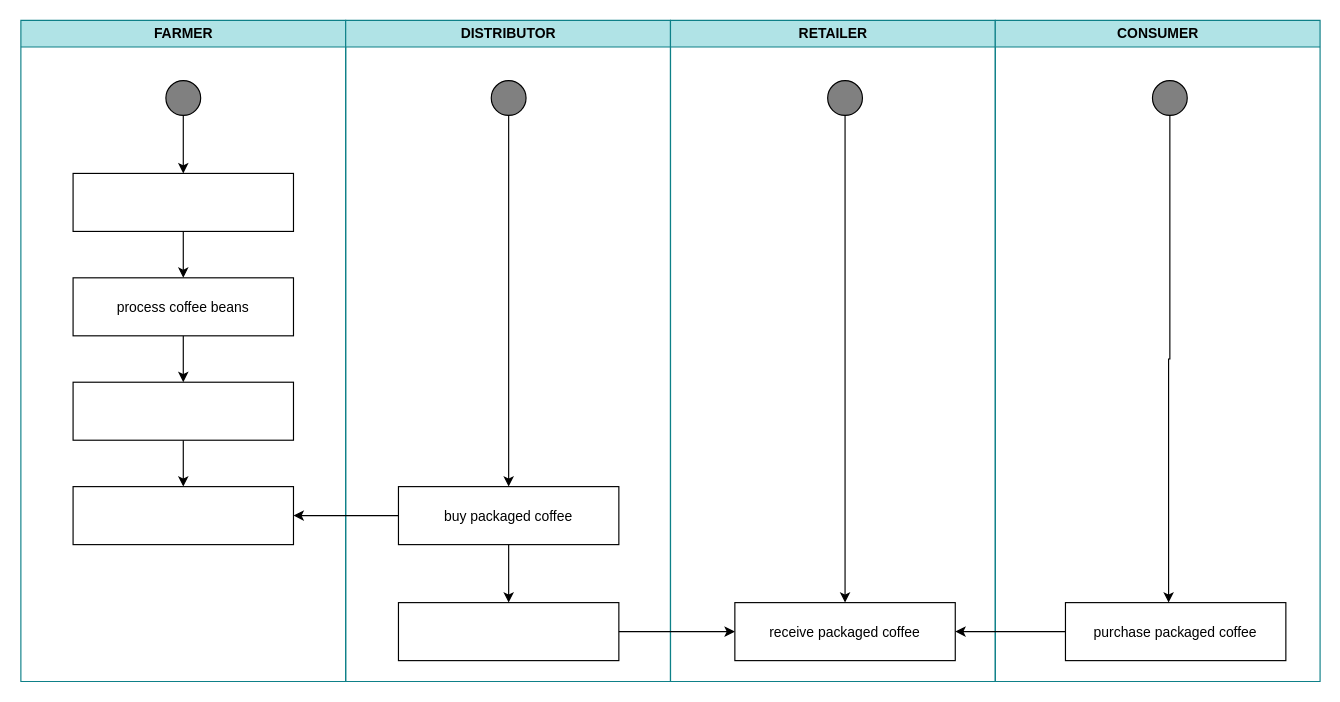
This 1340x702 diagram has some shape labels left out. The centre of each missing label's shape, as x and y in pixels:
"harvest coffee beans" belongs at [182,201].
"package processed coffee" belongs at [182,410].
"sell packaged coffee" belongs at [182,515].
"ship packaged coffee" belongs at [508,631].
